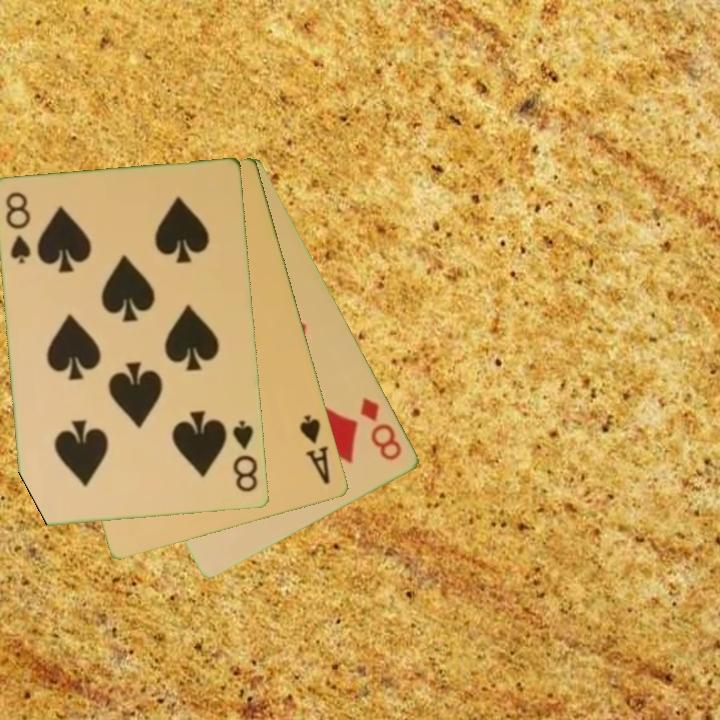8d: (357, 394, 406, 464)
8s: (2, 188, 34, 267), (230, 417, 261, 495)
As: (297, 411, 334, 488)
